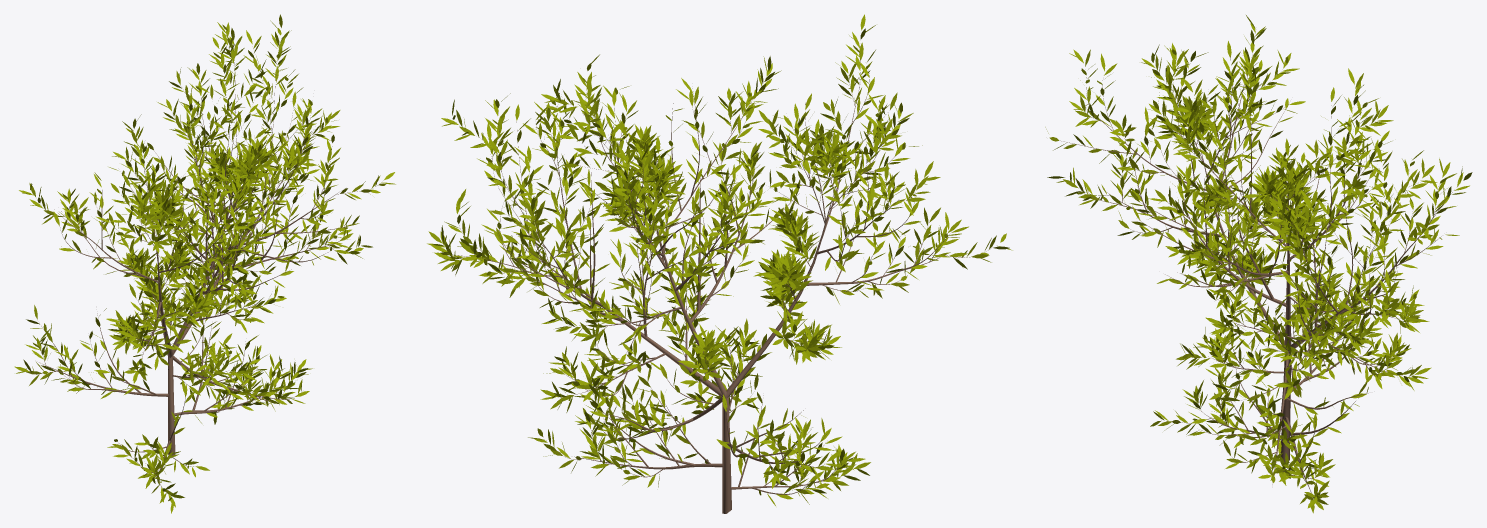
File: Bush1.fbx
3 views of the same model, side by side, from view 1: azimuth 30°, elevation 25°; view 2: azimuth 150°, elevation 25°; view 3: azimuth 270°, elevation 25° (orthographic). The views are drawn at different scales.
Parts seen in each view (by area): view 1: bush; view 2: bush; view 3: bush.
Part boxes in pixels (x1,y1,x2,y2): bush: (14, 14, 395, 513); bush: (427, 14, 1012, 513); bush: (1045, 15, 1472, 513).
Bounding box in the file's own units: 3.21 × 3.3 × 2.94.
